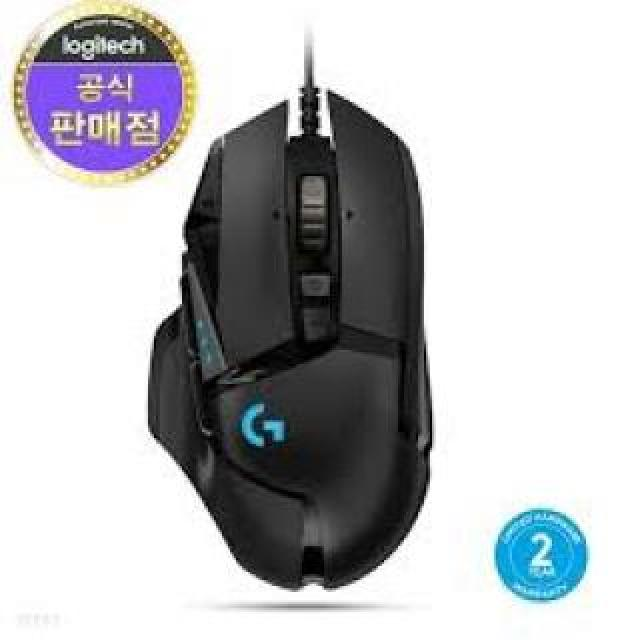mouse: (134, 49, 458, 615)
